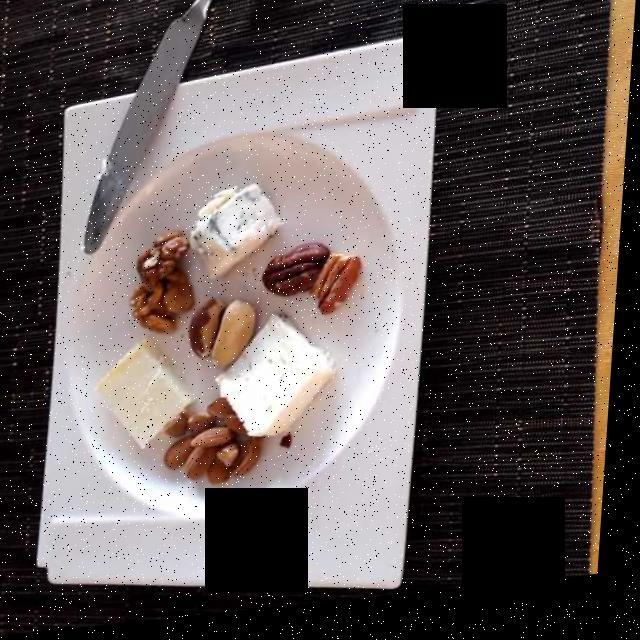cheese: (219, 323, 333, 449), (105, 341, 203, 453), (198, 183, 289, 294)
mixed-nuts: (124, 243, 364, 495)
